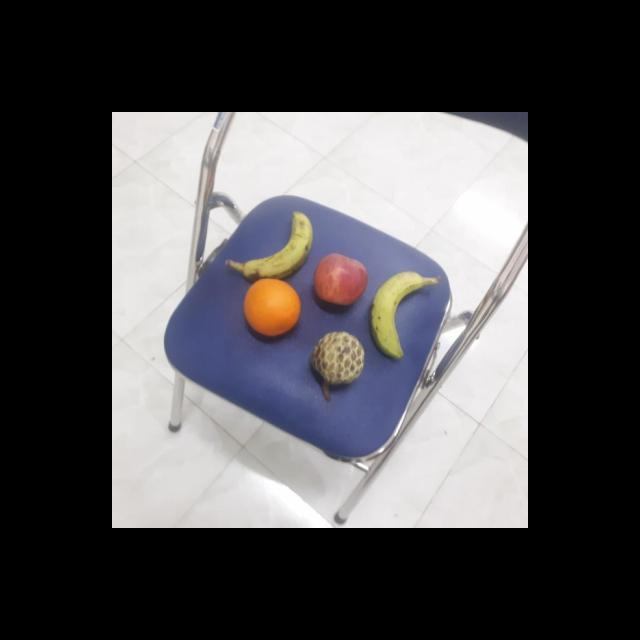Sakya fruit: (311, 331, 366, 384)
apple: (312, 248, 369, 309)
banana: (368, 269, 432, 360), (242, 211, 314, 282)
orange: (243, 278, 300, 338)
